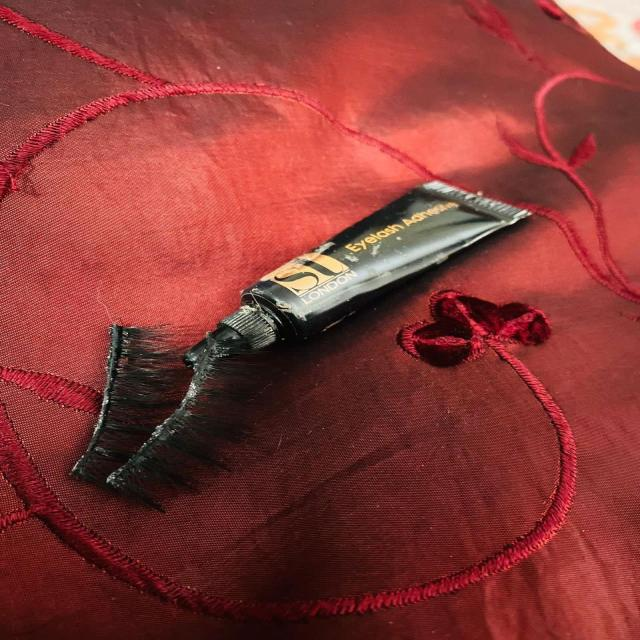eyelash curler: (103, 338, 276, 514), (61, 304, 196, 480)
gel: (204, 170, 543, 358)
